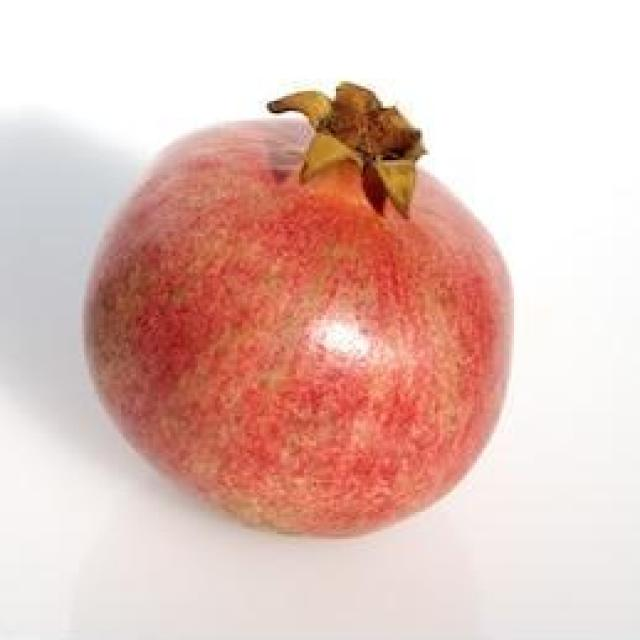Pomegranate: (80, 74, 517, 540)
